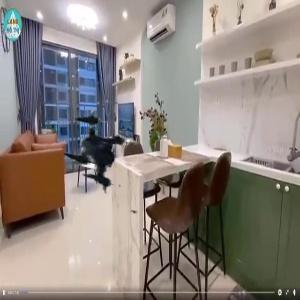drone: (51, 96, 168, 213)
